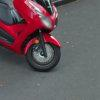Motorcycle: (3, 1, 69, 73)
